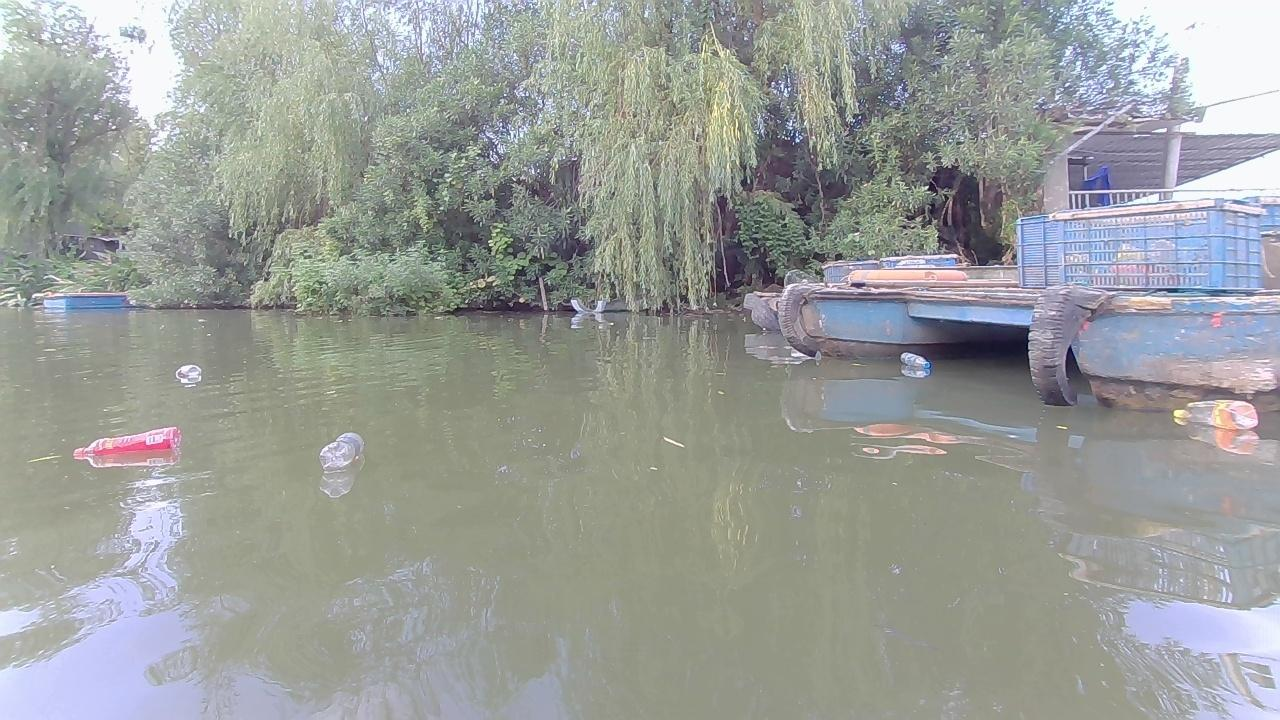bottle: (71, 427, 185, 465), (1171, 399, 1259, 433), (320, 425, 364, 466), (897, 349, 934, 374), (175, 361, 204, 387)
